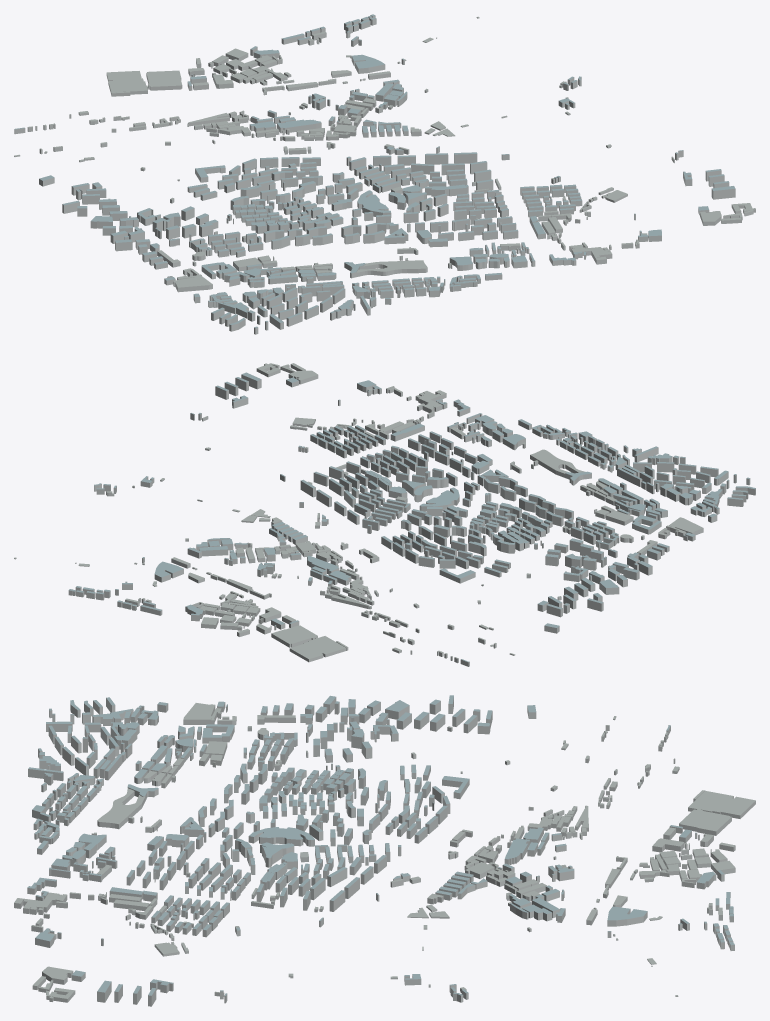
File: far.glb
3 views of the same model, one above another, from view 1: azimuth 30°, elevation 25°; view 2: azimuth 150°, elevation 25°; view 3: azimuth 270°, elevation 25° (orthographic). The views are drawn at different scales.
Bounding box in the file's own units: 2142 × 46.45 × 2228.
